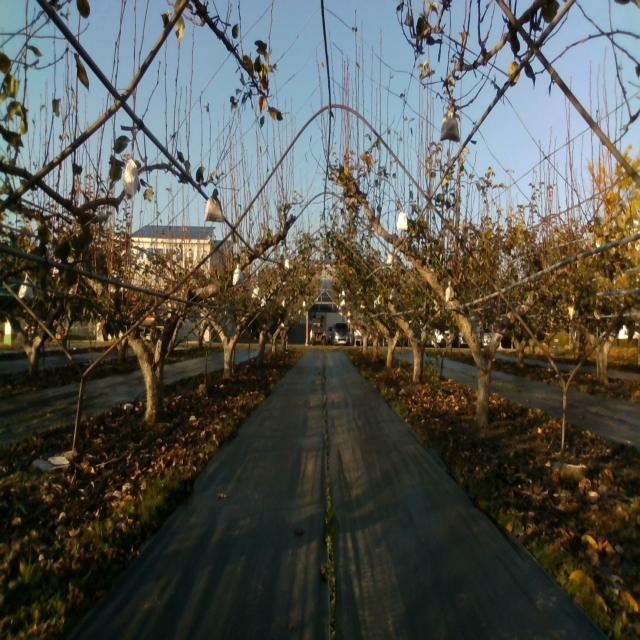pearbags: (440, 110, 460, 144), (123, 158, 139, 196), (205, 190, 223, 223), (232, 265, 245, 289), (397, 211, 408, 231)
